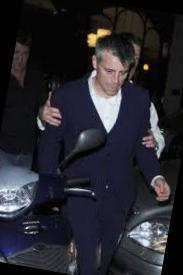Drunk: (104, 55, 129, 92)
